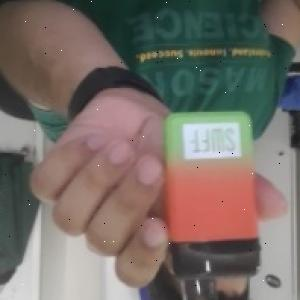Swift-E-Ciggirate: (159, 106, 265, 300)
